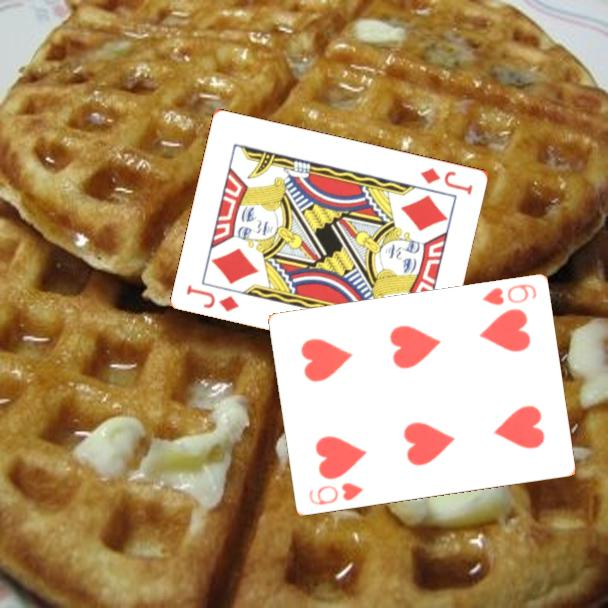d11: (183, 281, 242, 315), (417, 164, 476, 197)
h06: (305, 479, 366, 508), (479, 281, 539, 309)
